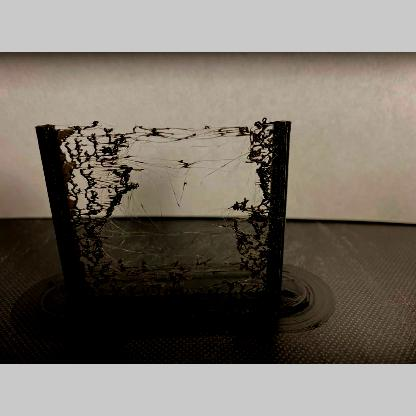fail: (61, 124, 271, 219), (96, 251, 262, 297)
